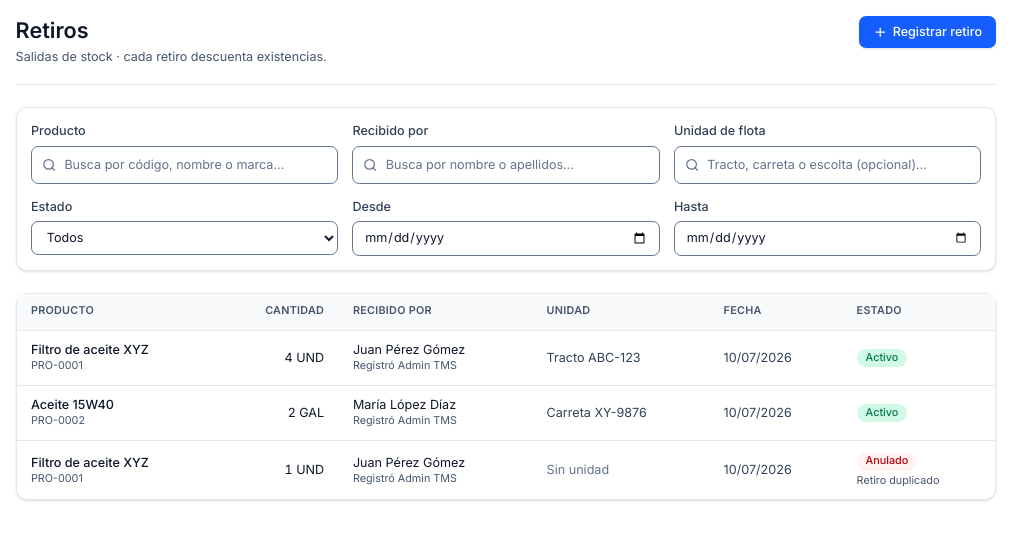
it: WithdrawalsListPage › el filtro de trabajador no busca con menos de 3 caracteres
Expected: the text "Aceite 15W40" is shown, x1=31 y1=397 x2=114 y2=412
Type "ju" into the dropdown labelled "Recibido por".
click(506, 164); type("ju")  # box x1=352 y1=146 x2=660 y2=184
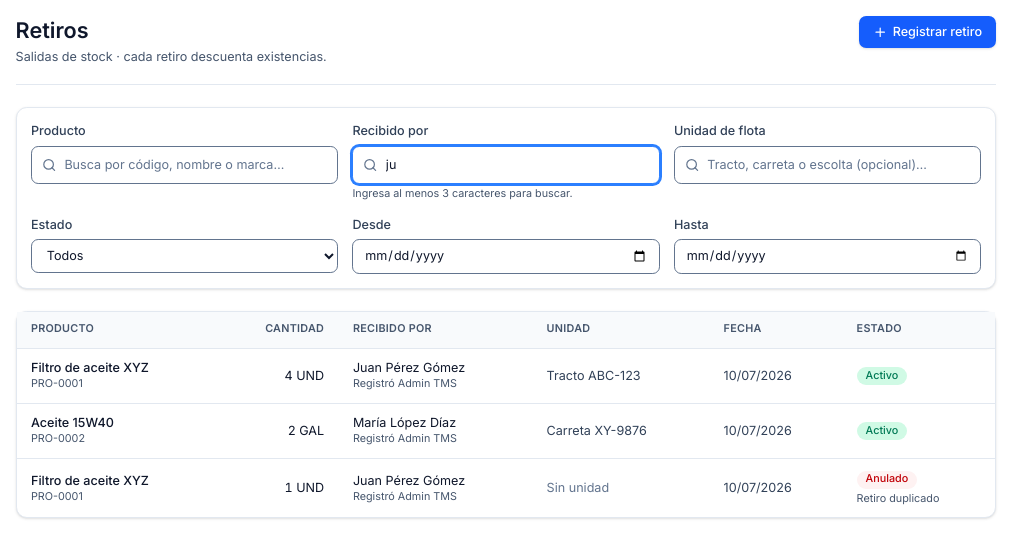
Now the text "Ingresa al menos 3 caracteres para buscar." is shown, box x1=352 y1=187 x2=573 y2=200
